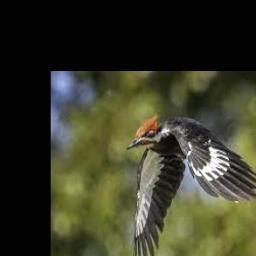Woodpecker: (127, 113, 256, 256)
